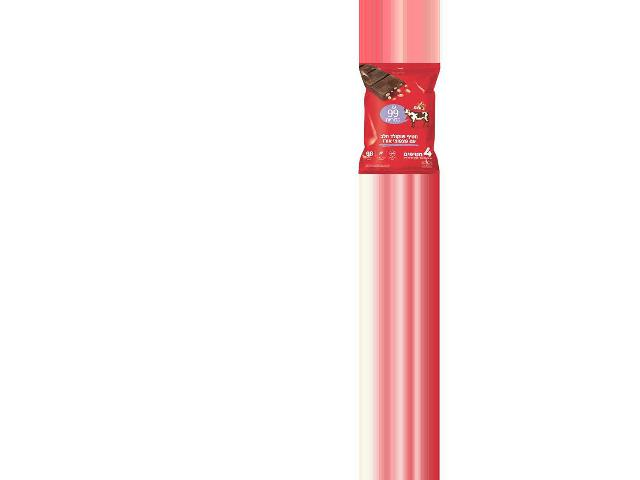chocolate: (357, 63, 437, 175)
